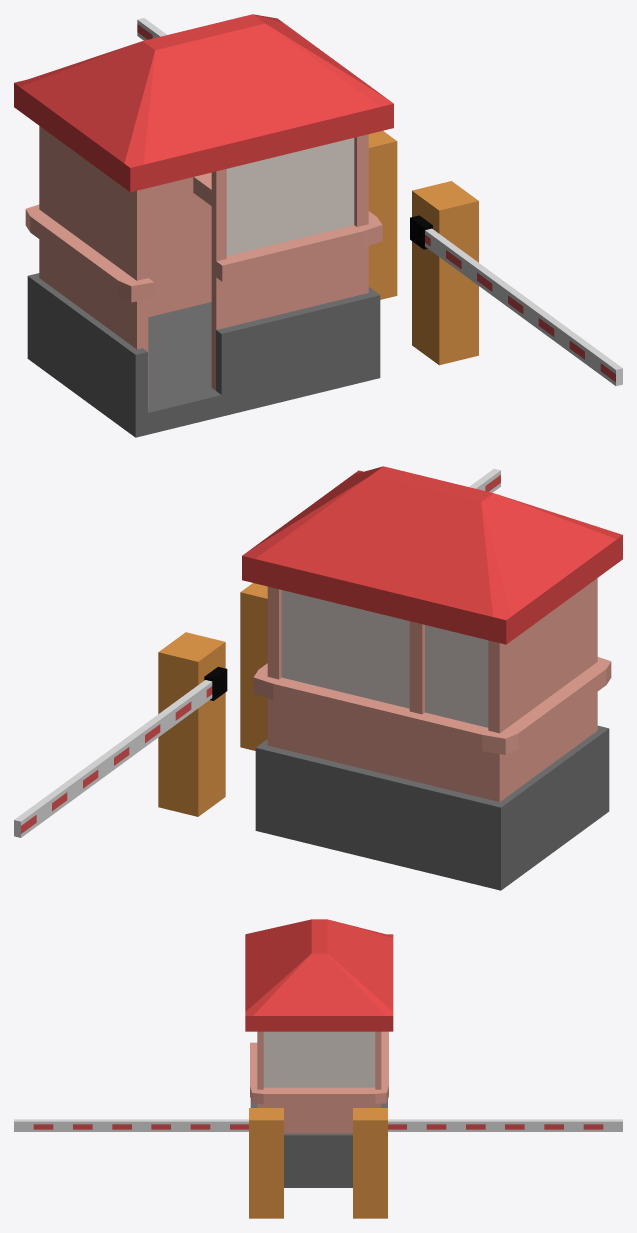
The model's file is gardhaus.fbx.
3 views of the same model, one above another, from view 1: azimuth 30°, elevation 25°; view 2: azimuth 150°, elevation 25°; view 3: azimuth 270°, elevation 25° (orthographic). The views are drawn at different scales.
Visible parts, largest first — view 1: Cube.002, Cube.001, Cube.003; view 2: Cube.002, Cube.003, Cube.001; view 3: Cube.002, Cube.003, Cube.001.
Part boxes in pixels (<box>): Cube.002: <box>14,14,393,437</box>; Cube.001: <box>410,181,622,386</box>; Cube.003: <box>137,18,397,299</box>; Cube.002: <box>242,466,622,890</box>; Cube.003: <box>14,632,227,837</box>; Cube.001: <box>240,468,500,750</box>; Cube.002: <box>245,919,393,1187</box>; Cube.003: <box>353,1108,622,1218</box>; Cube.001: <box>14,1108,283,1218</box>.
Bounding box in the file's own units: 445 × 407 × 1049.
